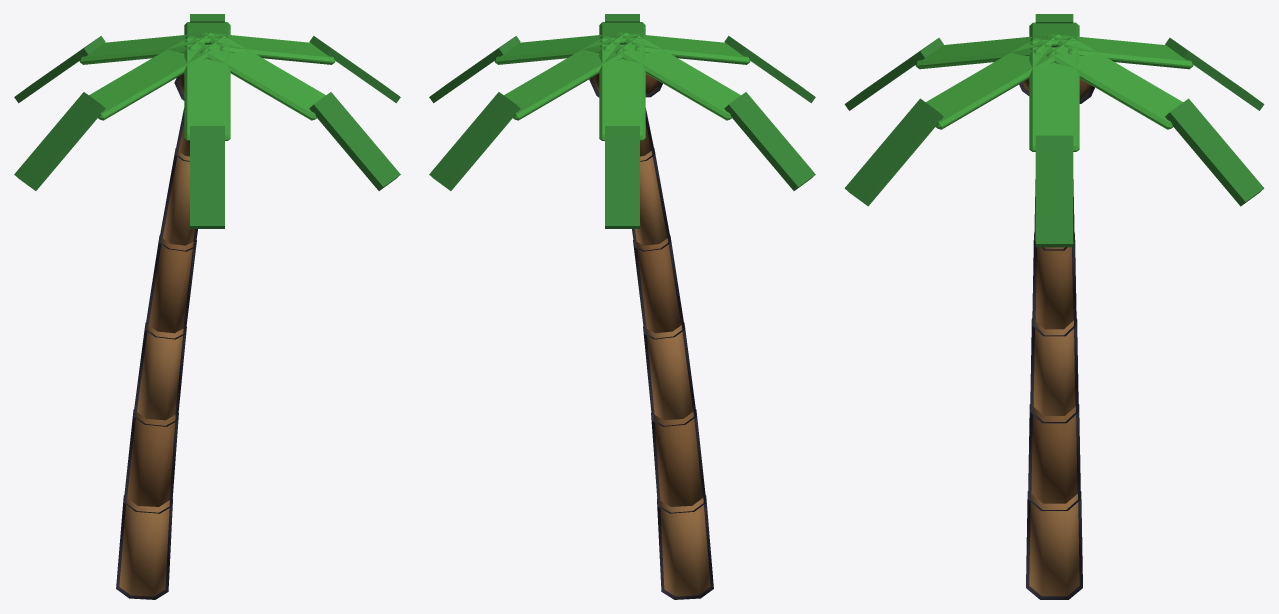
The model's file is palm_tree.glb.
3 renders of one model, left to right at view 1: azimuth 30°, elevation 25°; view 2: azimuth 150°, elevation 25°; view 3: azimuth 270°, elevation 25°, orthographic. The views are drawn at different scales.
Parts seen in each view (by area): view 1: palm_tree; view 2: palm_tree; view 3: palm_tree.
Boxes of the visible parts, <box> form: palm_tree: <box>14,14,400,599</box>; palm_tree: <box>429,14,815,599</box>; palm_tree: <box>844,14,1264,599</box>.
Size of the model in its own units: 5.51 by 7.61 by 4.99.
